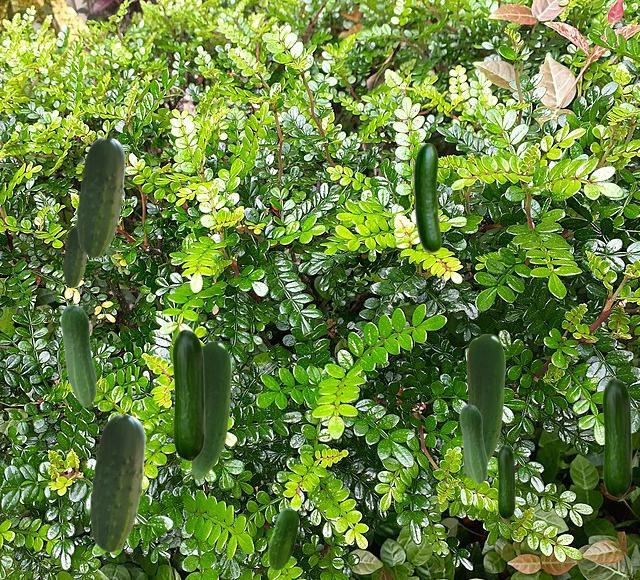cucumber: (89, 414, 144, 551), (463, 334, 504, 477), (76, 137, 124, 256), (191, 341, 230, 478), (172, 329, 204, 460), (60, 304, 96, 406), (602, 378, 631, 497), (414, 143, 440, 251), (459, 404, 487, 483), (268, 508, 297, 569), (63, 225, 87, 286), (497, 445, 514, 518)
